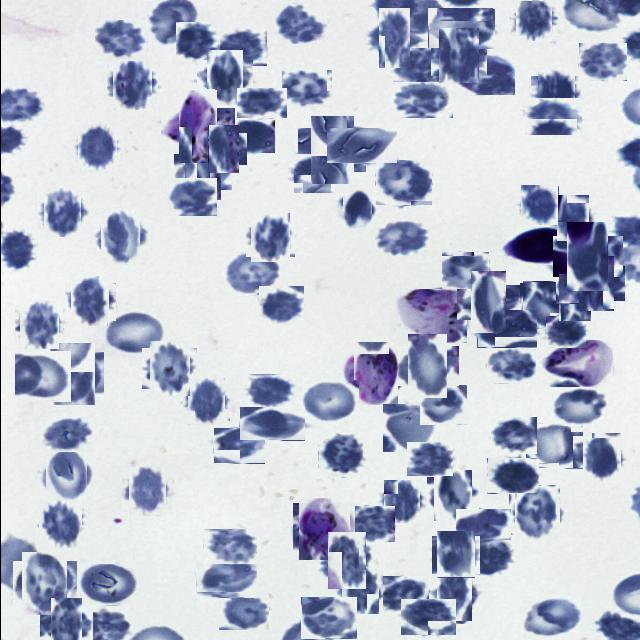difficult: (169, 99, 225, 155)
leukocyte: (501, 227, 577, 265)
red blood cell: (303, 122, 359, 178), (17, 556, 72, 611), (560, 228, 614, 284), (44, 348, 99, 402), (14, 351, 70, 402), (427, 8, 494, 50), (400, 340, 452, 392), (447, 55, 514, 95), (525, 422, 582, 468), (374, 160, 431, 206), (382, 404, 436, 452), (77, 564, 138, 606), (325, 128, 396, 164), (512, 487, 562, 538), (222, 252, 281, 295), (298, 380, 358, 422), (102, 313, 163, 354), (40, 450, 90, 500), (522, 596, 580, 638), (463, 278, 512, 327), (95, 214, 144, 262), (374, 218, 430, 260), (300, 597, 356, 639), (195, 560, 256, 598), (178, 148, 226, 196), (144, 344, 192, 392), (434, 32, 482, 80), (476, 310, 536, 348), (322, 536, 369, 584), (238, 407, 304, 441), (550, 387, 606, 427), (93, 20, 146, 62), (524, 98, 582, 136), (458, 534, 512, 574), (272, 4, 326, 44), (392, 82, 452, 118), (36, 502, 82, 548), (430, 573, 476, 619), (202, 55, 248, 101), (520, 282, 566, 328), (573, 260, 619, 306), (399, 599, 455, 636), (109, 61, 154, 107), (371, 16, 416, 62), (280, 70, 331, 110), (74, 126, 120, 170), (580, 436, 624, 481), (317, 434, 362, 478), (39, 417, 94, 453), (392, 48, 444, 86), (202, 529, 256, 565), (40, 190, 84, 234), (67, 280, 111, 324), (248, 215, 292, 259), (430, 474, 474, 518), (16, 303, 60, 347), (533, 73, 577, 117), (242, 374, 295, 410), (218, 592, 268, 630), (166, 178, 216, 216), (124, 470, 168, 513), (377, 576, 428, 613), (419, 385, 466, 425), (486, 458, 538, 494), (212, 428, 264, 464), (577, 43, 626, 81), (175, 22, 219, 64), (440, 252, 488, 290), (217, 29, 266, 66), (184, 380, 227, 422), (434, 534, 477, 576), (485, 348, 535, 384), (338, 570, 380, 612), (258, 286, 303, 324), (455, 509, 510, 540), (292, 154, 334, 194), (491, 417, 536, 454), (348, 506, 394, 542), (512, 0, 554, 39), (381, 482, 421, 522), (554, 278, 594, 318), (202, 128, 242, 168), (406, 442, 452, 476), (553, 198, 592, 238), (518, 186, 558, 224), (44, 604, 86, 640), (236, 88, 286, 118), (231, 120, 274, 153), (545, 316, 585, 348), (339, 192, 373, 226)
trophozoite: (395, 289, 466, 343), (294, 500, 352, 558), (542, 340, 612, 387), (348, 346, 402, 401)
